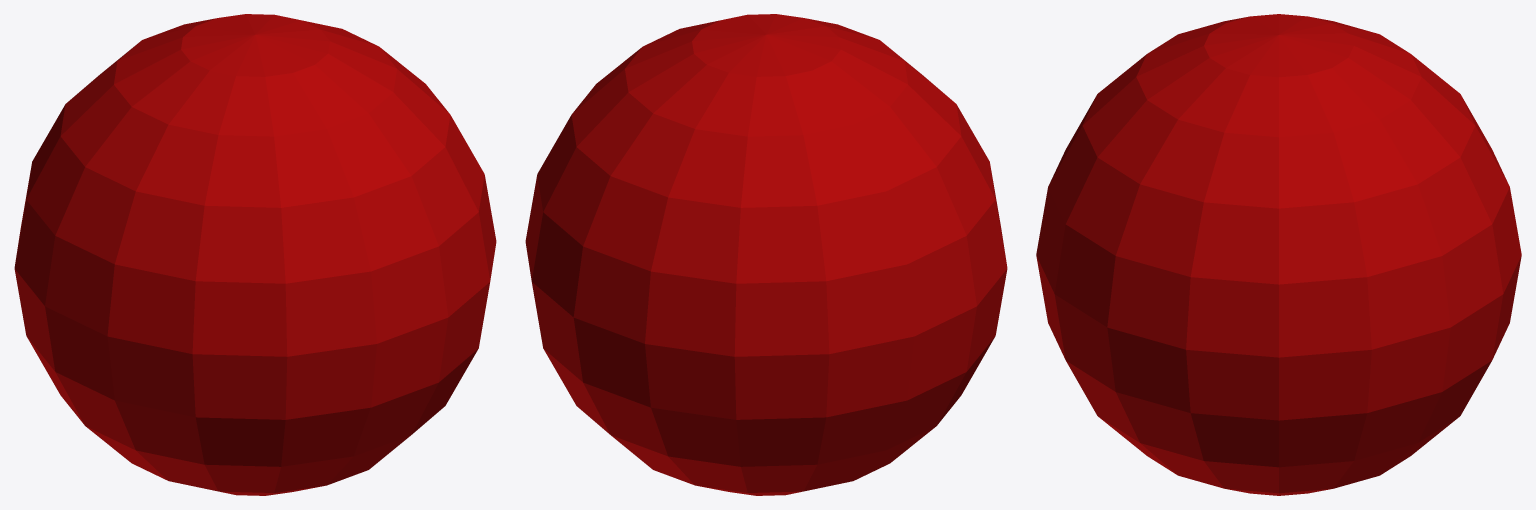
Rendered from Orb_PickupSphere_Quaternius.obj.
3 renders of one model, left to right at view 1: azimuth 30°, elevation 25°; view 2: azimuth 150°, elevation 25°; view 3: azimuth 270°, elevation 25°, orthographic.
Parts seen in each view (by area): view 1: Pickup_Sphere; view 2: Pickup_Sphere; view 3: Pickup_Sphere.
Part boxes in pixels (x1=…): Pickup_Sphere: x1=14, y1=14, x2=496, y2=495; Pickup_Sphere: x1=525, y1=14, x2=1007, y2=495; Pickup_Sphere: x1=1036, y1=14, x2=1521, y2=495.
Size of the model in its own units: 0.6041 by 0.6041 by 0.6041.
Materials: 1 (1 with a texture image).
